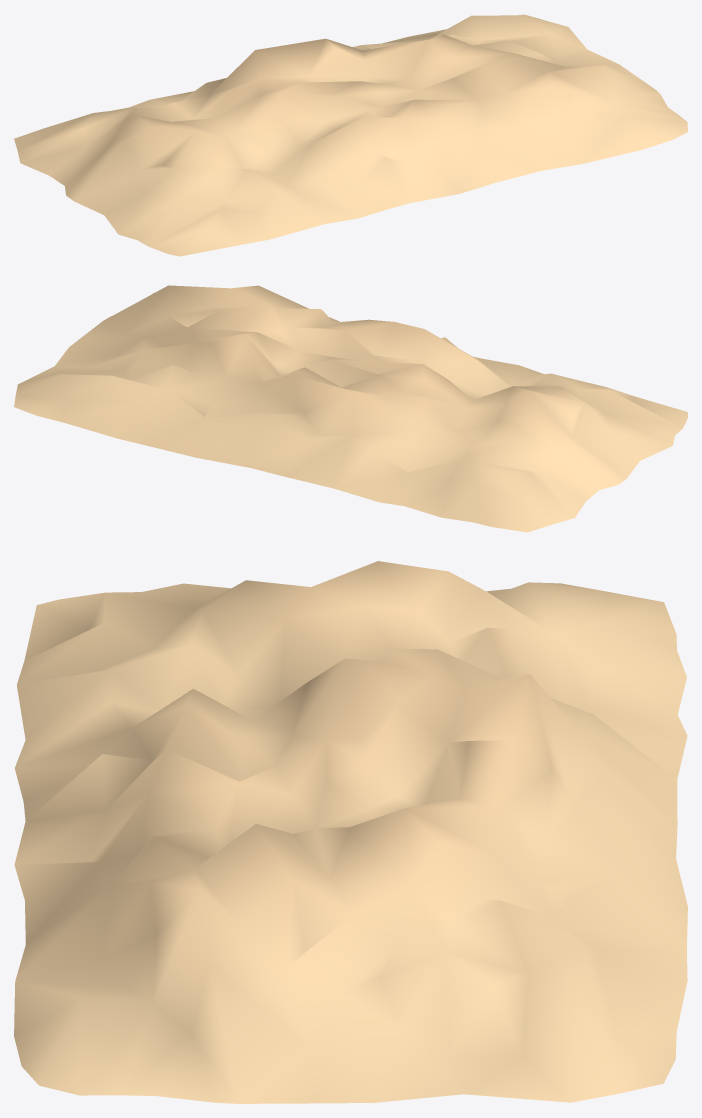
The model's file is Terrain 4.glb.
The picture shows the model from 3 angles, top to bottom: view 1: azimuth 30°, elevation 25°; view 2: azimuth 150°, elevation 25°; view 3: azimuth 270°, elevation 25°; orthographic projection. The views are drawn at different scales.
Visible parts, largest first — view 1: Terrain4; view 2: Terrain4; view 3: Terrain4.
Part boxes in pixels (<box>): Terrain4: <box>14,14,687,256</box>; Terrain4: <box>14,285,687,532</box>; Terrain4: <box>14,561,687,1103</box>.
Size of what is drawn, in the model's own units: 8.6 by 0.9545 by 4.71.
Materials: 1 (1 with a texture image).
